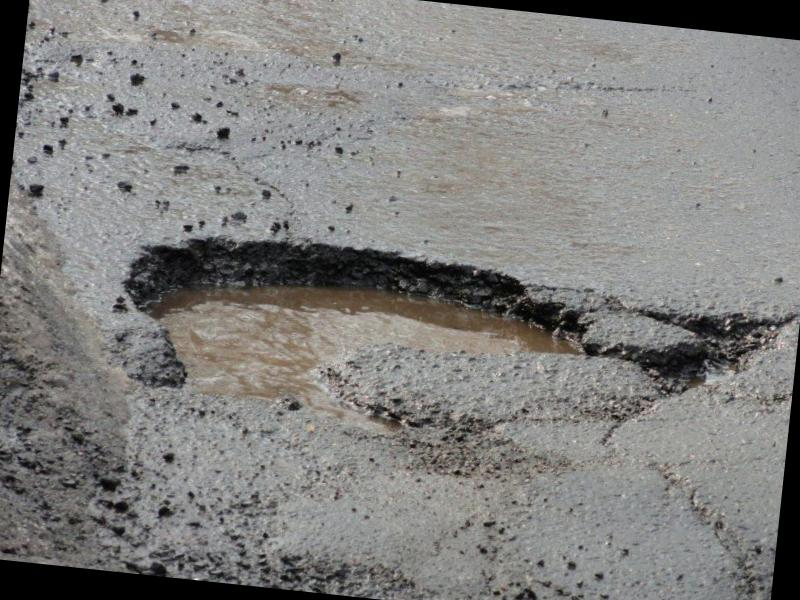pothole: (90, 185, 644, 509), (624, 283, 796, 436)
